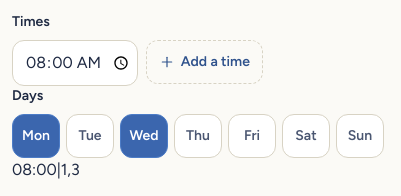
shared schedule fields › adds and removes times up to the limit
Click the button "Add a time". click: [204, 62]
box: 146,40 -> 263,84
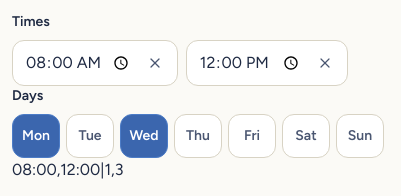
Now the text with test id "state" reads "08:00,12:00|1,3", box 12,160 -> 123,179
Now the button "Add a time" is gone
Click the button named "Remove time 1". click: [155, 63]
box: 137,45 -> 173,81
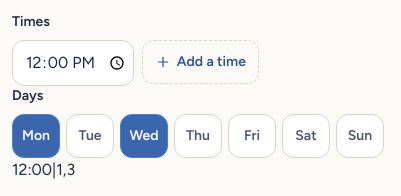
Now the text with test id "state" reads "12:00|1,3", box 12,160 -> 75,179
